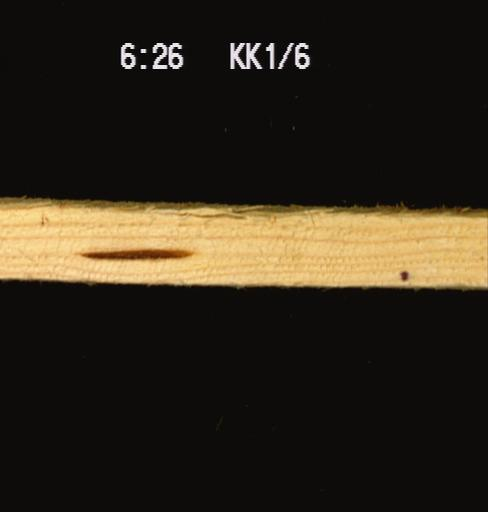split: (155, 208, 249, 221)
